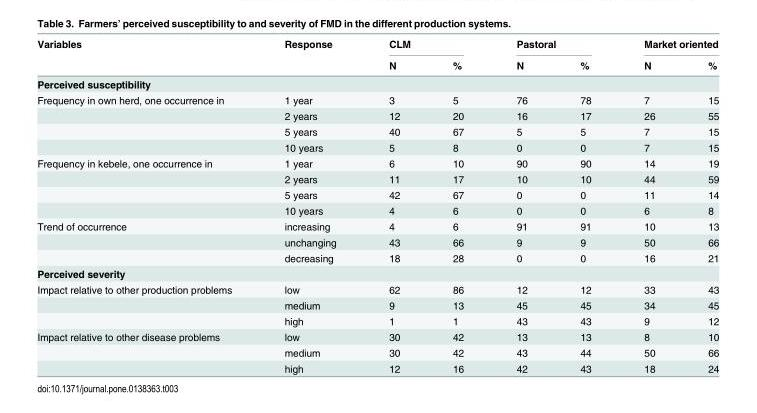table: (36, 37, 718, 373)
table column: (36, 37, 257, 373), (257, 37, 361, 373), (361, 37, 425, 373), (425, 37, 489, 373), (489, 37, 553, 373), (553, 37, 617, 373), (617, 37, 680, 373), (680, 37, 718, 373)
table column header: (36, 37, 718, 74)
table projected row header: (36, 74, 718, 91), (36, 265, 718, 281)
table row: (36, 54, 718, 74), (36, 37, 718, 54), (36, 74, 718, 91), (36, 91, 718, 107), (36, 107, 718, 123), (36, 123, 718, 139), (36, 154, 718, 170), (36, 170, 718, 186), (36, 186, 718, 202), (36, 202, 718, 218), (36, 233, 718, 249), (36, 249, 718, 265), (36, 265, 718, 281), (36, 281, 718, 297), (36, 312, 718, 328), (36, 328, 718, 344), (36, 344, 718, 360), (36, 139, 718, 154), (36, 218, 718, 233), (36, 297, 718, 312), (36, 360, 718, 373)
table spanning cell: (36, 154, 257, 218), (36, 91, 257, 154), (36, 218, 257, 265), (36, 281, 257, 328), (36, 328, 257, 373), (36, 37, 257, 74), (257, 37, 361, 74), (361, 37, 489, 54), (489, 37, 617, 54), (617, 37, 718, 54)
